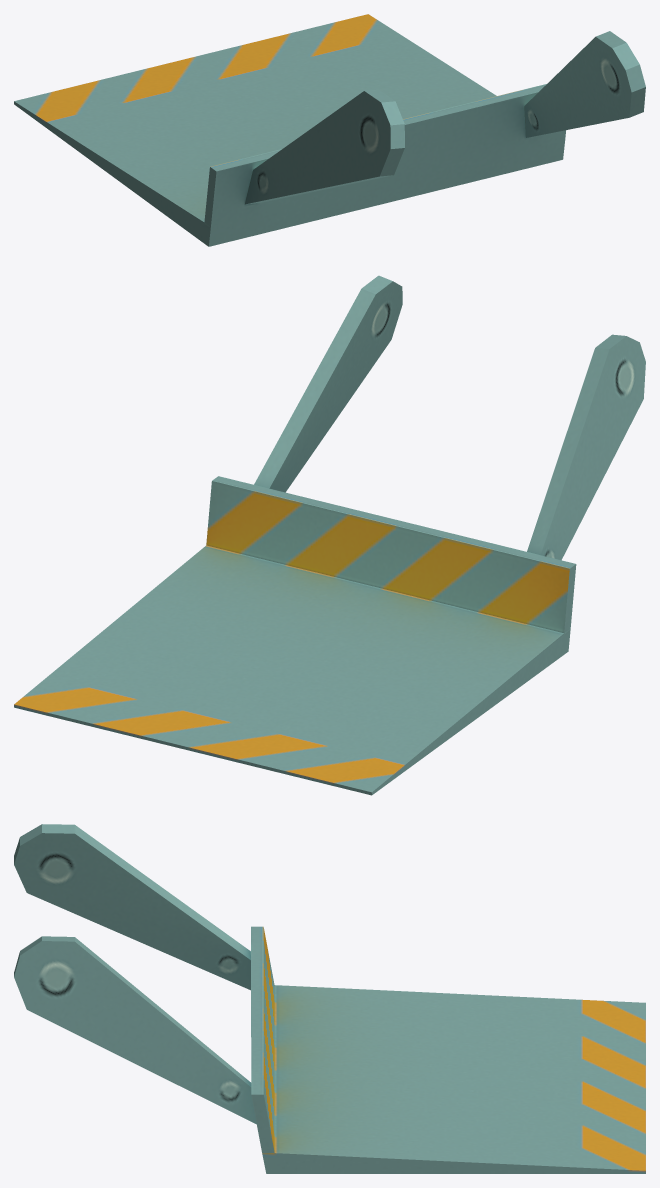
Rendered from catapult_fbx.fbx.
The picture shows the model from 3 angles, top to bottom: view 1: azimuth 30°, elevation 25°; view 2: azimuth 150°, elevation 25°; view 3: azimuth 270°, elevation 25°; orthographic projection. The views are drawn at different scales.
Parts seen in each view (by area): view 1: catapult; view 2: catapult; view 3: catapult.
Part boxes in pixels (x1,y1,x2,y2): catapult: (14, 14, 645, 246); catapult: (14, 275, 645, 795); catapult: (14, 824, 645, 1173).
Bounding box in the file's own units: 14.56 × 8.42 × 23.07.
